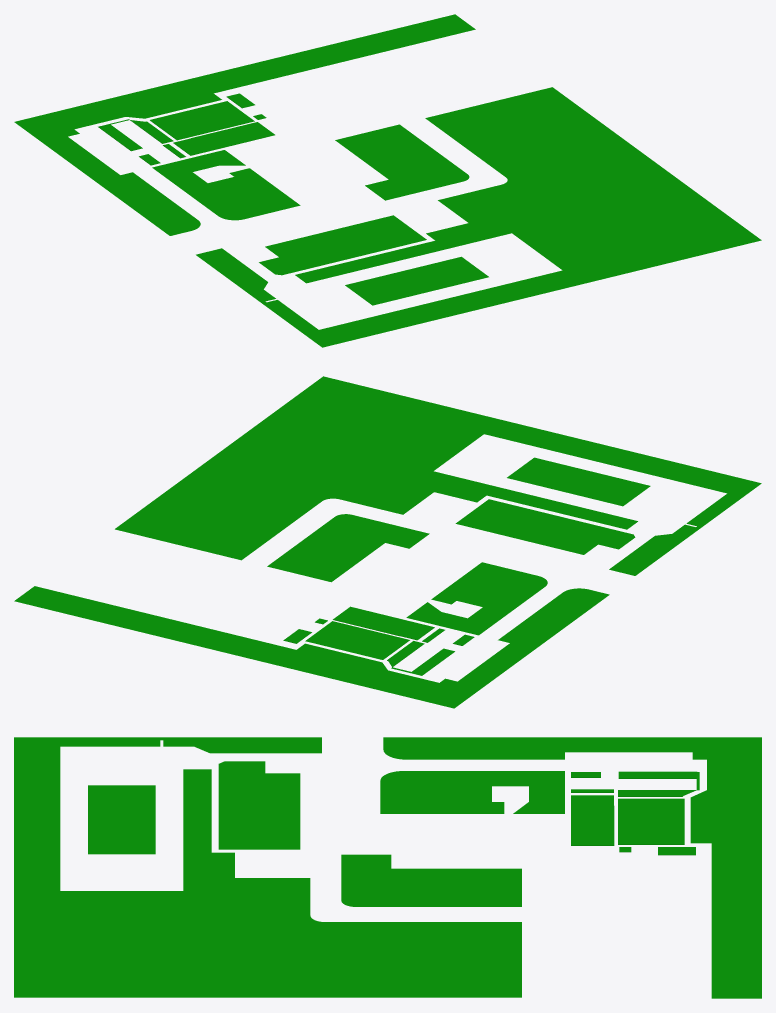
The model's file is Grass.fbx.
3 renders of one model, top to bottom at view 1: azimuth 30°, elevation 25°; view 2: azimuth 150°, elevation 25°; view 3: azimuth 270°, elevation 25°, orthographic. The views are drawn at different scales.
Parts seen in each view (by area): view 1: Cube.175; view 2: Cube.175; view 3: Cube.175.
Part boxes in pixels (x1,y1,x2,y2): Cube.175: (14, 14, 761, 347); Cube.175: (14, 376, 761, 708); Cube.175: (14, 737, 761, 998).
Bounding box in the file's own units: 20074 × 10 × 24300.
